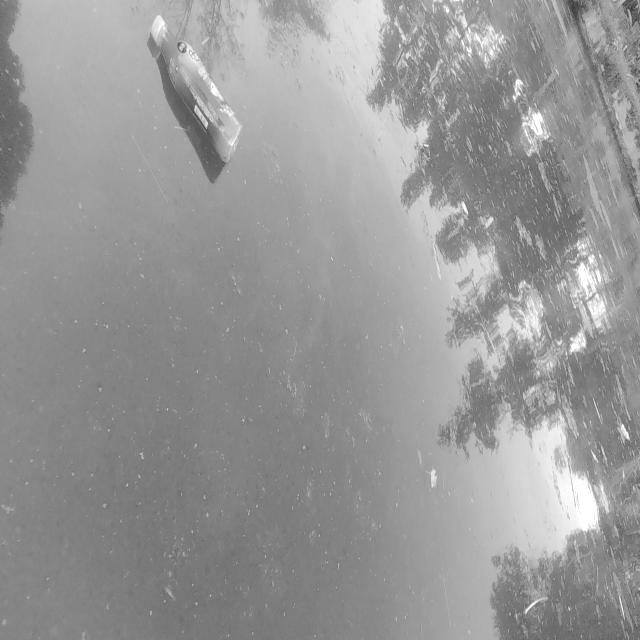bottle: (136, 0, 261, 202)
